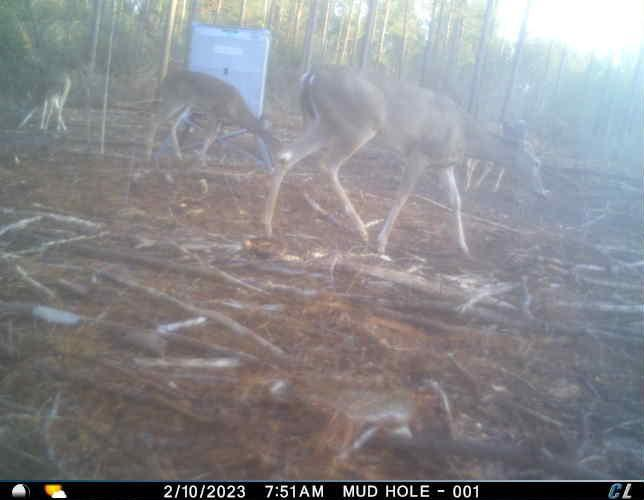Deer: (265, 56, 549, 267), (139, 66, 275, 170), (14, 66, 71, 134)
